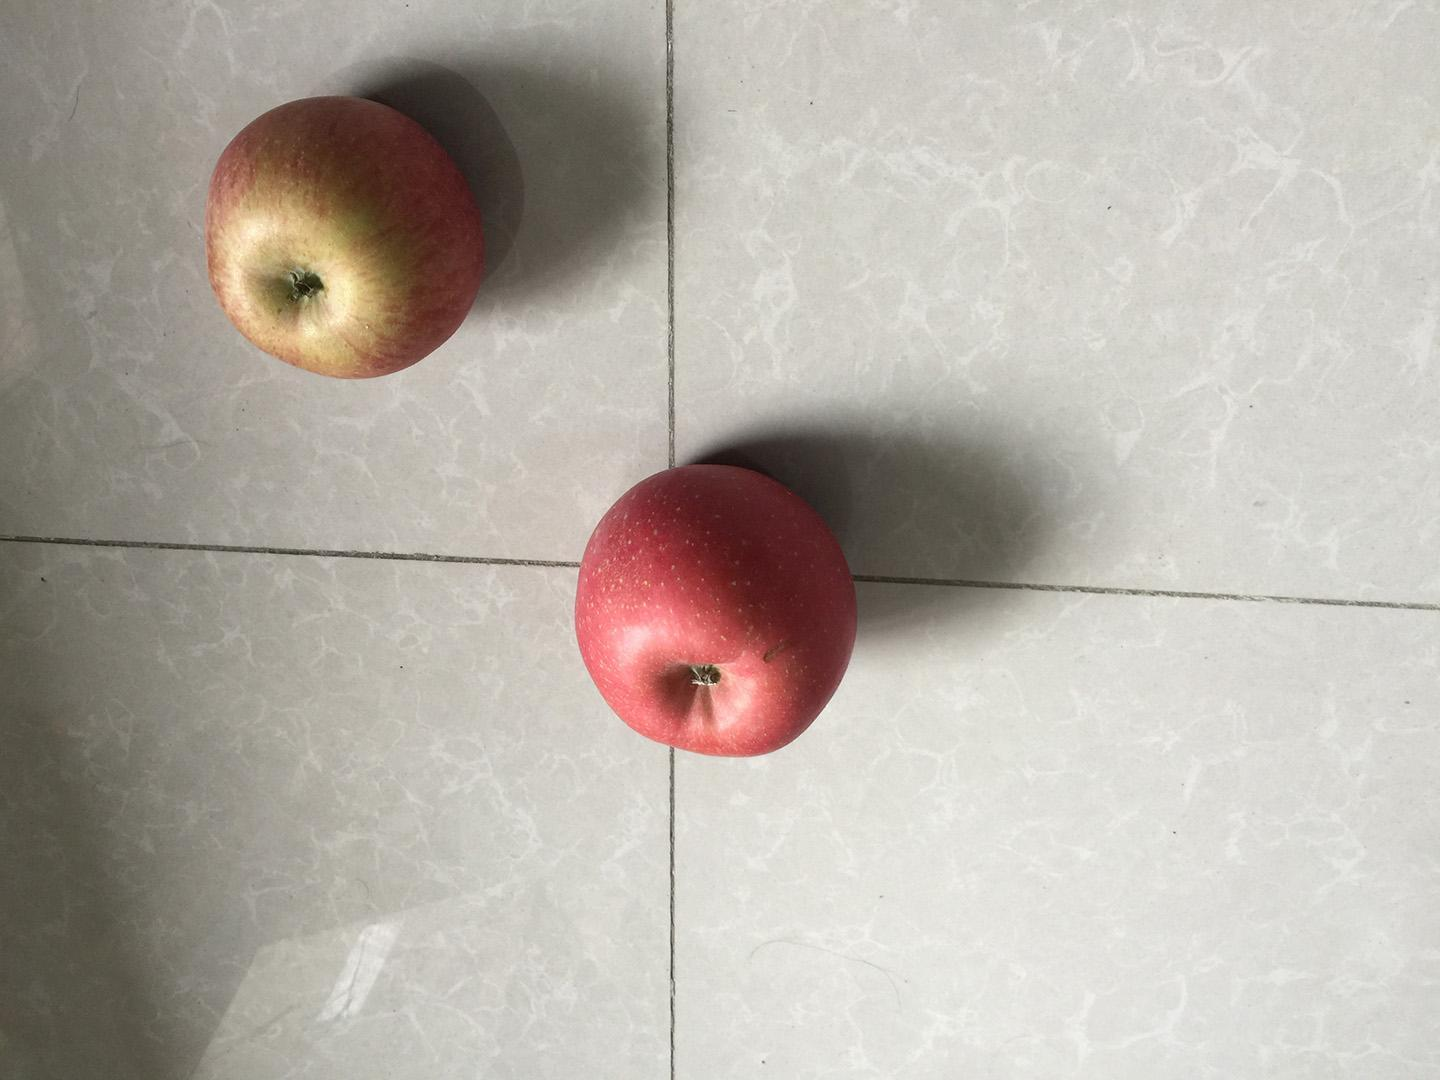apple: (571, 454, 866, 763), (202, 90, 490, 386)
